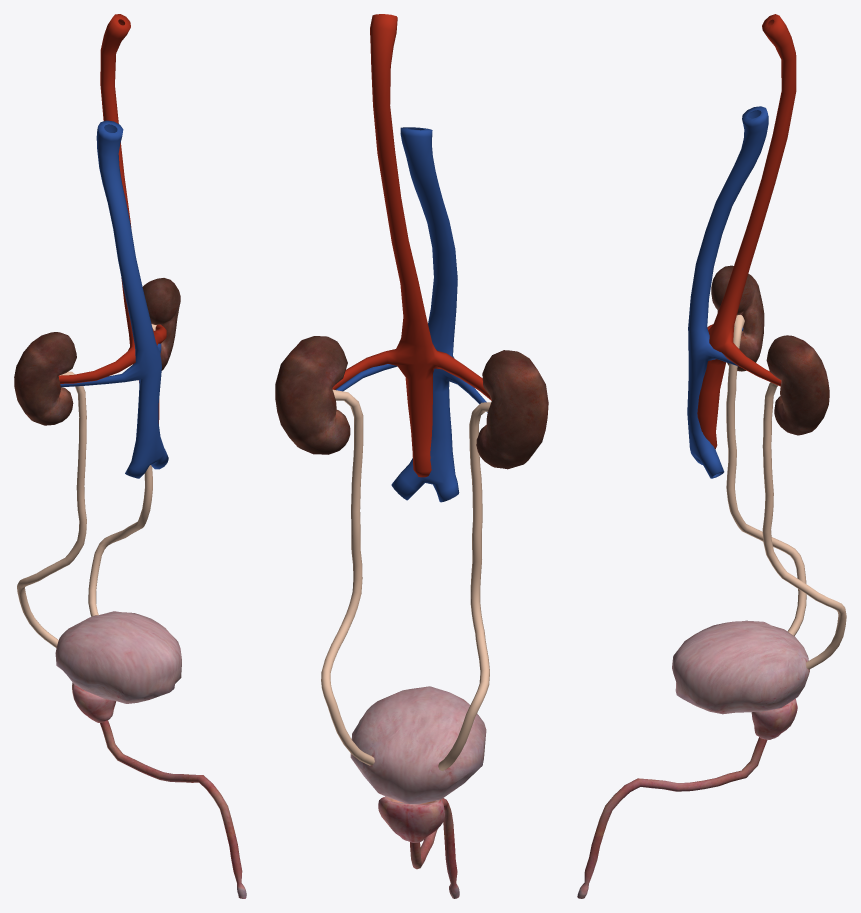
File: CoHA_Obj_ExcretorySystem.fbx
3 renders of one model, left to right at view 1: azimuth 30°, elevation 25°; view 2: azimuth 150°, elevation 25°; view 3: azimuth 270°, elevation 25°, orthographic. The views are drawn at different scales.
Visible parts, largest first — view 1: Bladder2, VenousSystem_Torso, Kidney_Right, ArterialSystem_Torso, Prostate_Uretra, Ureter_Right, Kidney_Left, Ureter_Left; view 2: ArterialSystem_Torso, Bladder2, VenousSystem_Torso, Kidney_Left, Kidney_Right, Ureter_Left, Ureter_Right, Prostate_Uretra; view 3: Bladder2, ArterialSystem_Torso, VenousSystem_Torso, Kidney_Left, Prostate_Uretra, Ureter_Left, Ureter_Right, Kidney_Right.
Part boxes in pixels (<box>): Bladder2: <box>55,611,181,703</box>; VenousSystem_Torso: <box>60,120,168,478</box>; Kidney_Right: <box>14,332,76,425</box>; ArterialSystem_Torso: <box>58,14,166,423</box>; Prostate_Uretra: <box>72,682,246,898</box>; Ureter_Right: <box>17,371,86,647</box>; Kidney_Left: <box>142,278,180,370</box>; Ureter_Left: <box>88,324,156,616</box>; ArterialSystem_Torso: <box>332,14,491,477</box>; Bladder2: <box>350,686,486,804</box>; VenousSystem_Torso: <box>335,127,487,502</box>; Kidney_Left: <box>275,336,350,454</box>; Kidney_Right: <box>476,350,548,469</box>; Ureter_Left: <box>321,389,374,765</box>; Ureter_Right: <box>438,402,490,770</box>; Prostate_Uretra: <box>378,796,459,898</box>; Bladder2: <box>672,620,809,714</box>; ArterialSystem_Torso: <box>697,14,796,448</box>; VenousSystem_Torso: <box>687,106,768,478</box>; Kidney_Left: <box>766,335,829,435</box>; Prostate_Uretra: <box>577,699,797,898</box>; Ureter_Left: <box>762,382,846,669</box>; Ureter_Right: <box>726,315,806,635</box>; Kidney_Right: <box>711,265,764,371</box>.
Bounding box in the file's own units: 41.43 × 169 × 47.75.
8 materials, 4 textured.
